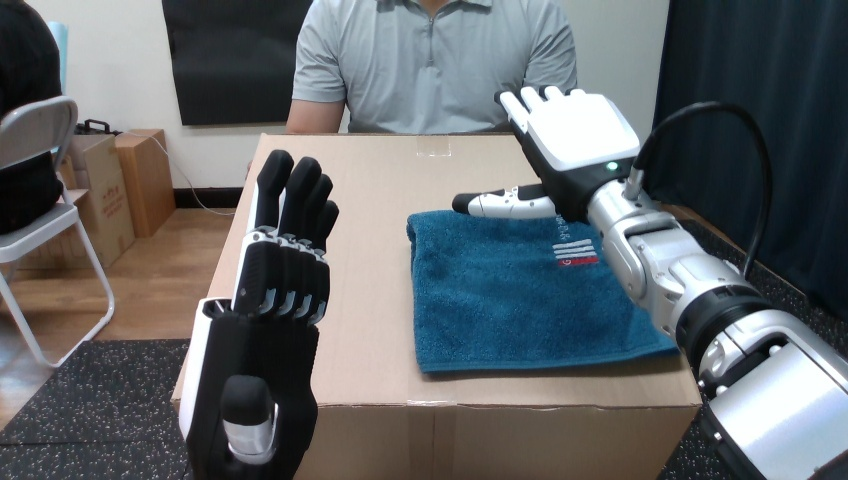left robot hand: (452, 87, 847, 478), (179, 150, 338, 478), (642, 111, 763, 271)
